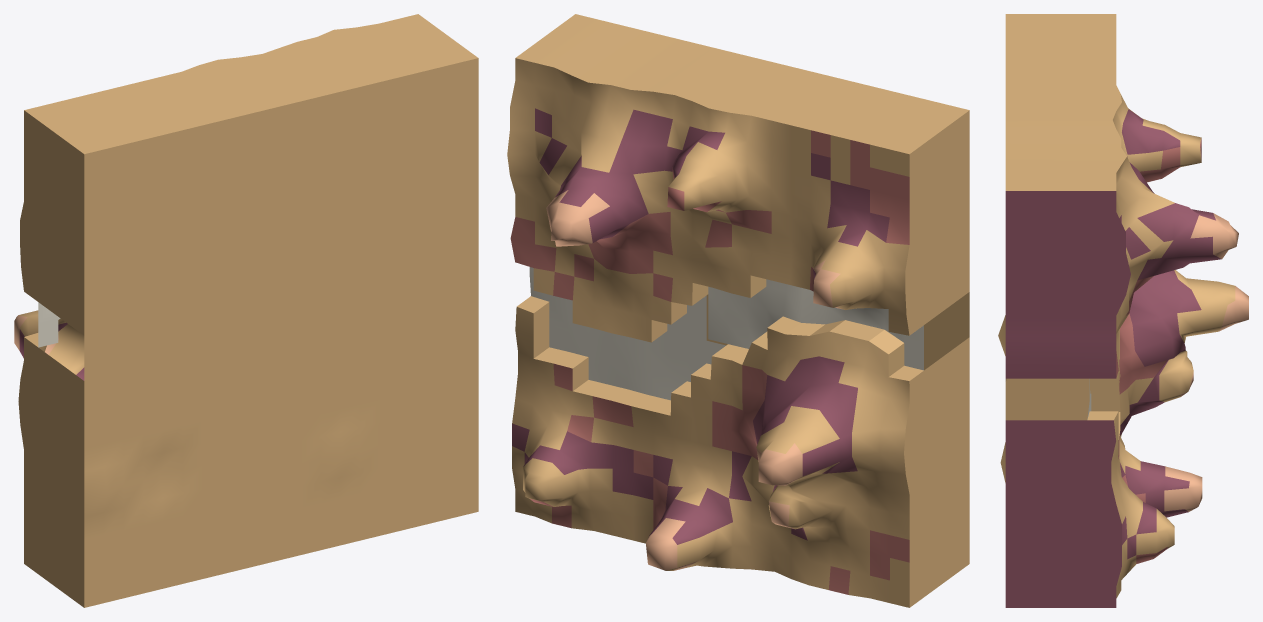
File: DesertTheme.fbx
The picture shows the model from 3 angles, left to right: view 1: azimuth 30°, elevation 25°; view 2: azimuth 150°, elevation 25°; view 3: azimuth 270°, elevation 25°; orthographic projection. The views are drawn at different scales.
Parts seen in each view (by area): view 1: Box080; view 2: Box080; view 3: Box080.
Part boxes in pixels (box(x1,y1,x2,y2)): Box080: box(14, 14, 478, 607); Box080: box(507, 14, 969, 607); Box080: box(998, 14, 1248, 607).
Bounding box in the file's own units: 268 × 159 × 291.
